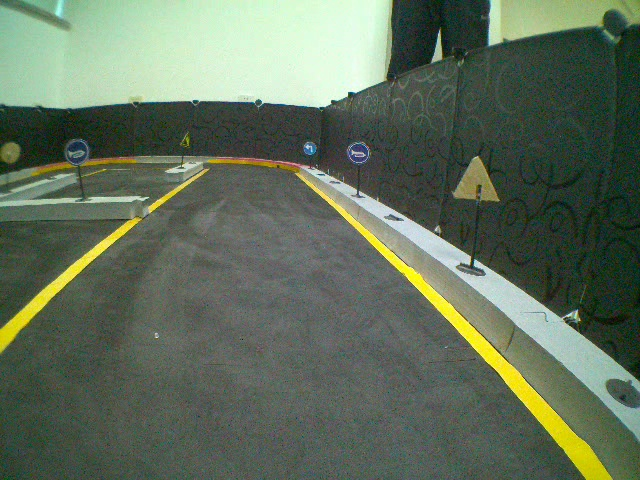fast: (178, 129, 192, 150)
horn: (64, 136, 90, 165), (347, 141, 369, 166)
turn: (301, 141, 316, 157)
